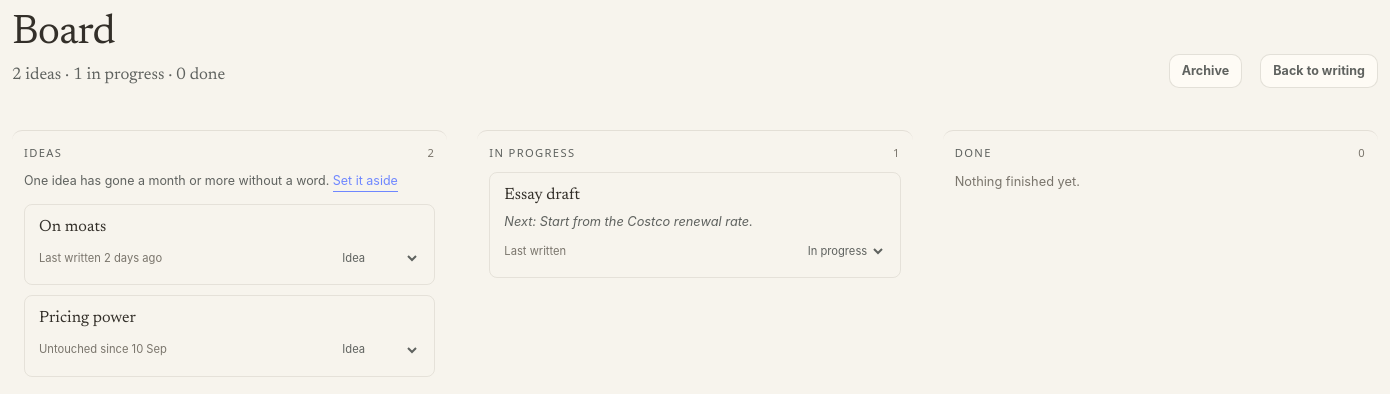
Test case: a move the server refuses puts the card back
Select "Done" in the dropdown named "Move “Essay draft”" at coordinates (844, 251), box [802,237,886,265]
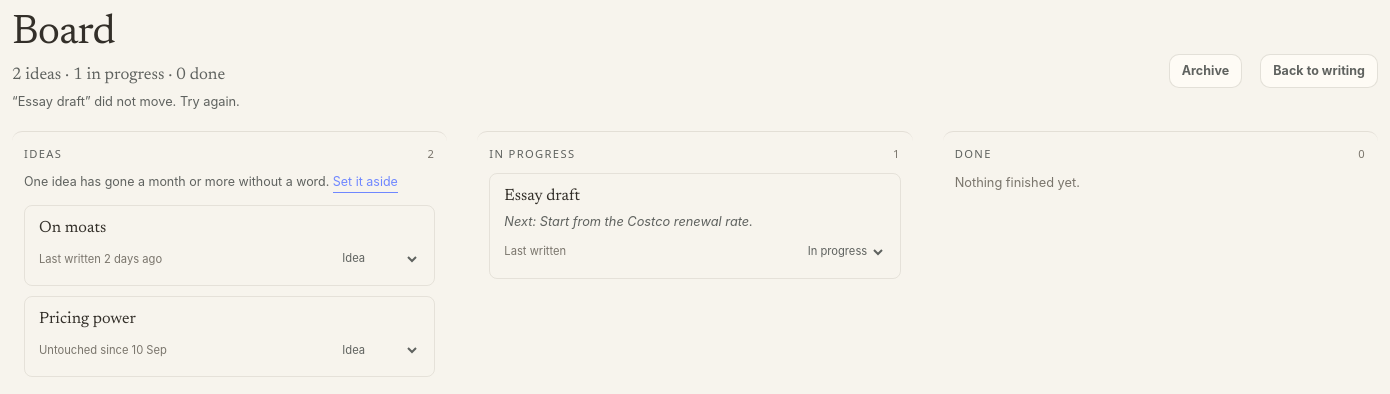
Expected: the button "Essay draft" is shown, [504,186,886,207]
Expected: the message reads "“Essay draft” did not move. Try again.", [12,94,240,109]
